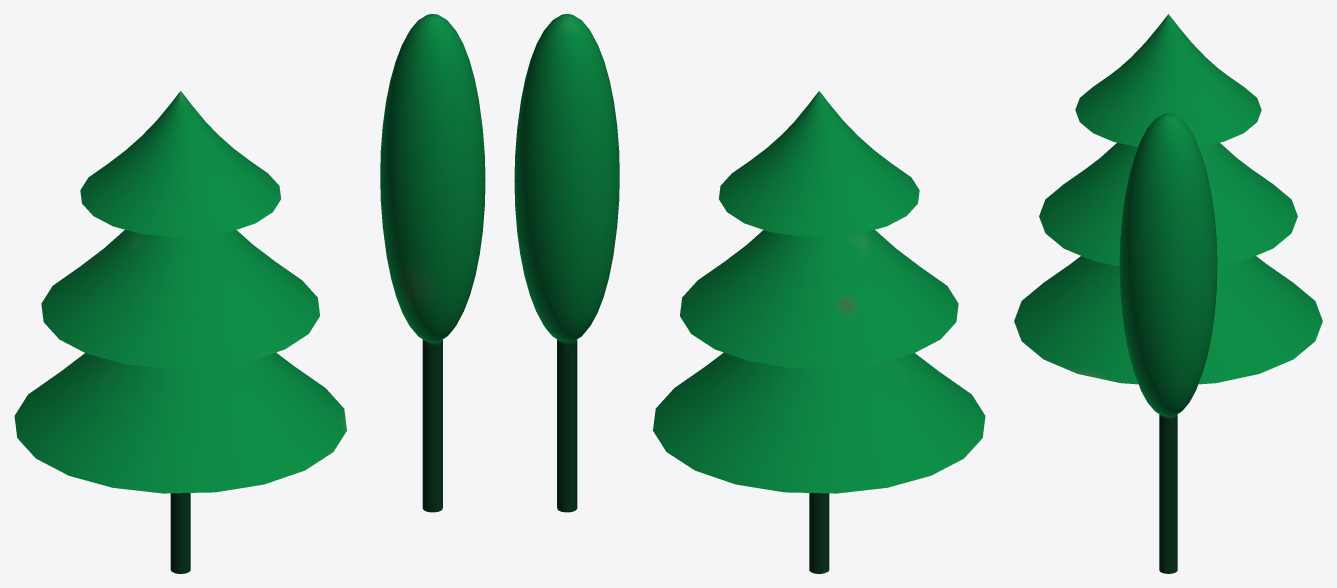
The model's file is trees_virginia.fbx.
The picture shows the model from 3 angles, left to right: view 1: azimuth 30°, elevation 25°; view 2: azimuth 150°, elevation 25°; view 3: azimuth 270°, elevation 25°; orthographic projection. The views are drawn at different scales.
Parts seen in each view (by area): view 1: Tree01, Tree02; view 2: Tree01, Tree02; view 3: Tree01, Tree02.
Part boxes in pixels (x1,y1,x2,y2): Tree01: [14, 91, 346, 573]; Tree02: [380, 14, 485, 512]; Tree01: [653, 91, 985, 573]; Tree02: [514, 14, 619, 512]; Tree01: [1014, 14, 1322, 384]; Tree02: [1119, 113, 1217, 573].
Size of the model in its own units: 29.09 by 30.94 by 19.03.
1 material, 1 textured.
